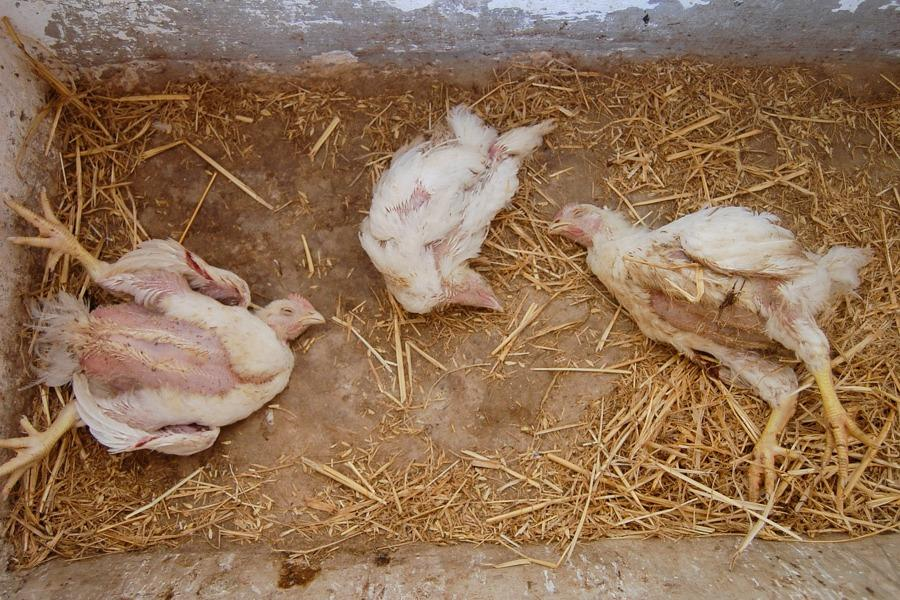AbNormal: (0, 175, 327, 491), (548, 199, 873, 506), (357, 100, 532, 320)
